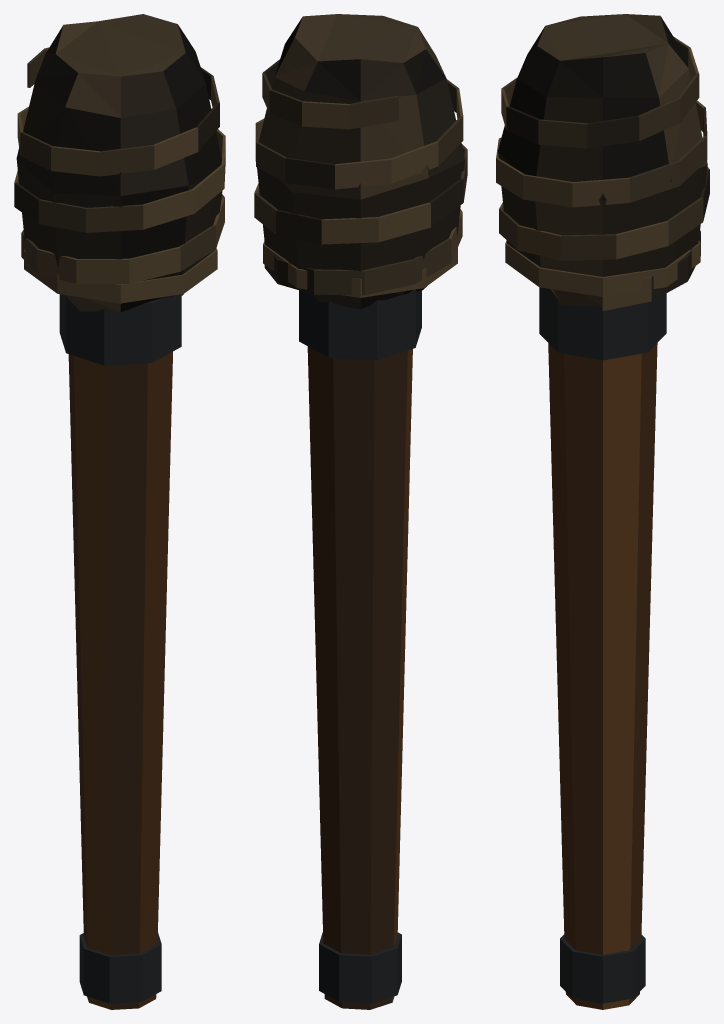
Rendered from DungeonTorch.fbx.
3 renders of one model, left to right at view 1: azimuth 30°, elevation 25°; view 2: azimuth 150°, elevation 25°; view 3: azimuth 270°, elevation 25°, orthographic.
Parts seen in each view (by area): view 1: DungeonTorch; view 2: DungeonTorch; view 3: DungeonTorch.
Boxes of the visible parts, left/top/right/bottom form: DungeonTorch: left=14, top=14, right=225, bottom=1009; DungeonTorch: left=254, top=14, right=467, bottom=1009; DungeonTorch: left=496, top=14, right=709, bottom=1009.
Bounding box in the file's own units: 0.1446 × 0.7193 × 0.1445.
Materials: 3 (3 with a texture image).
